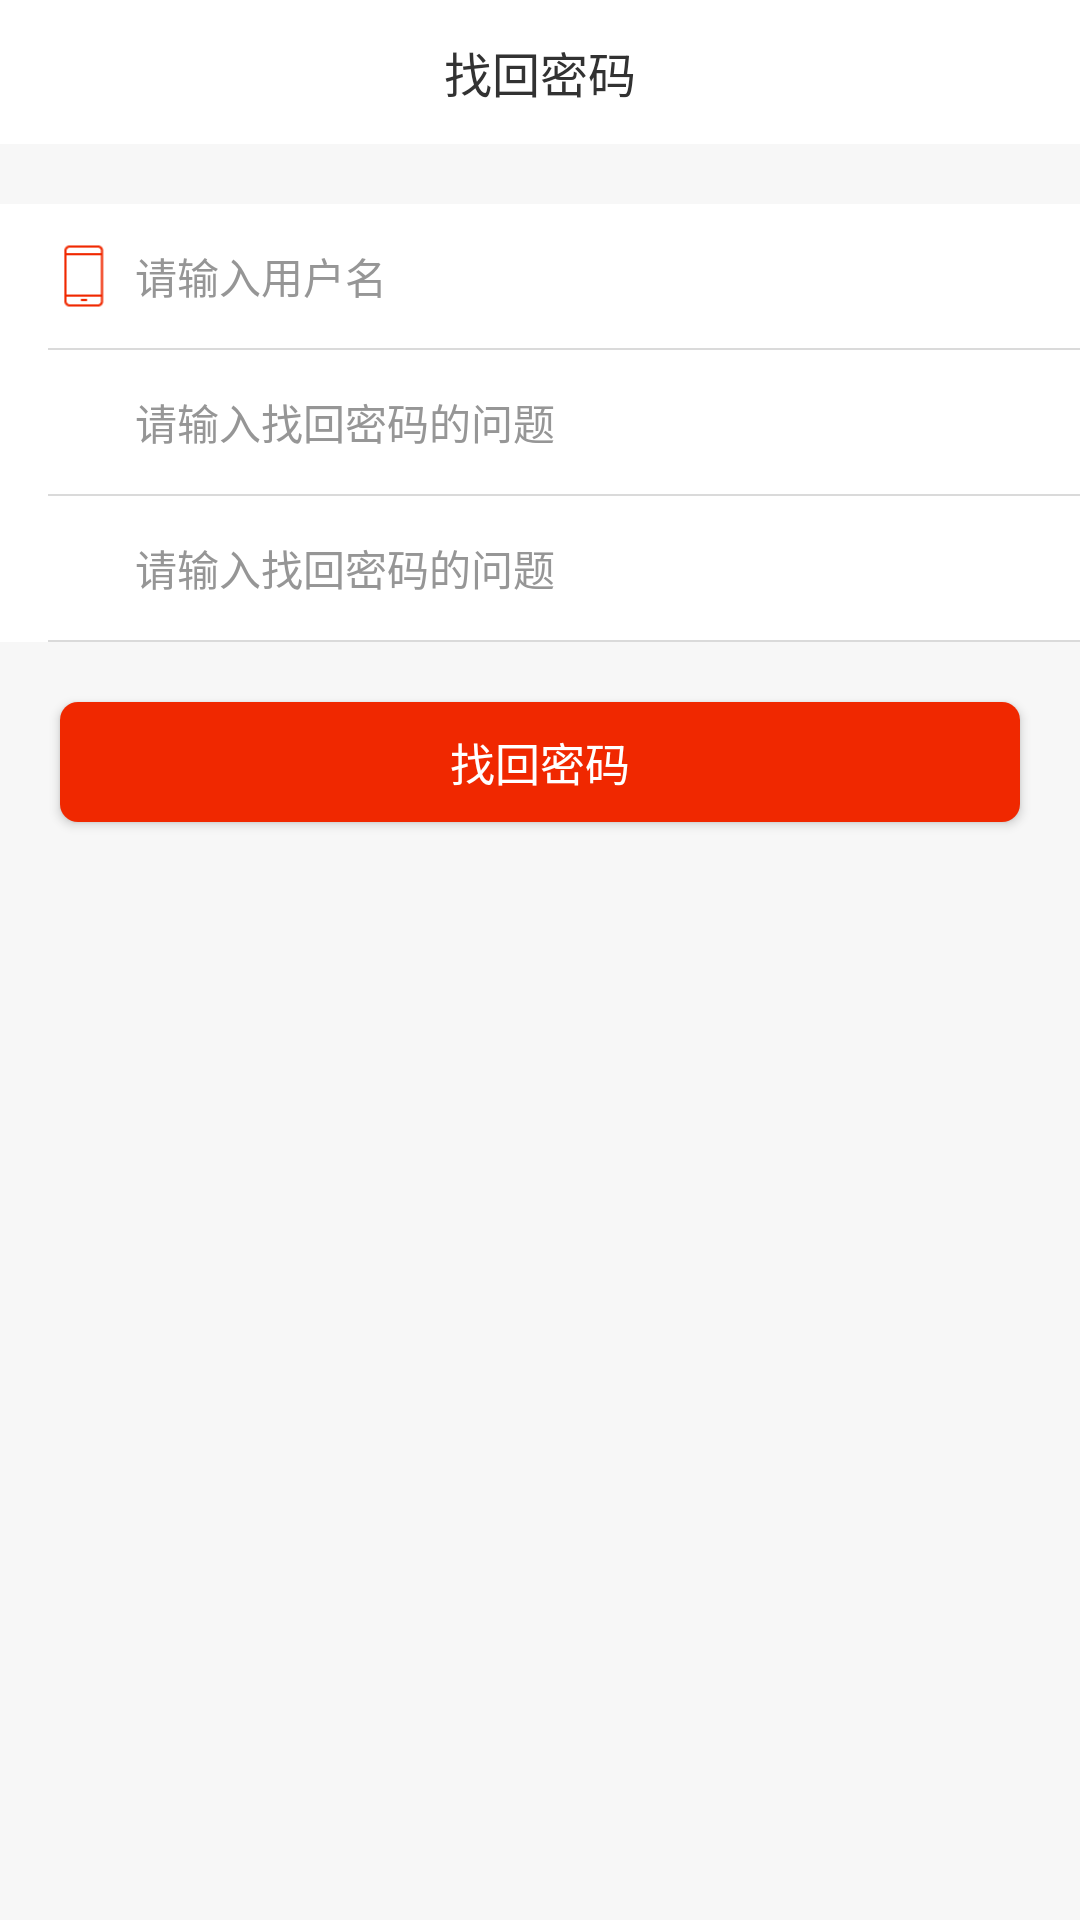

Where to tap for icons on this 1080x1920 app screen, as (x,y):
phone: (84,276)
